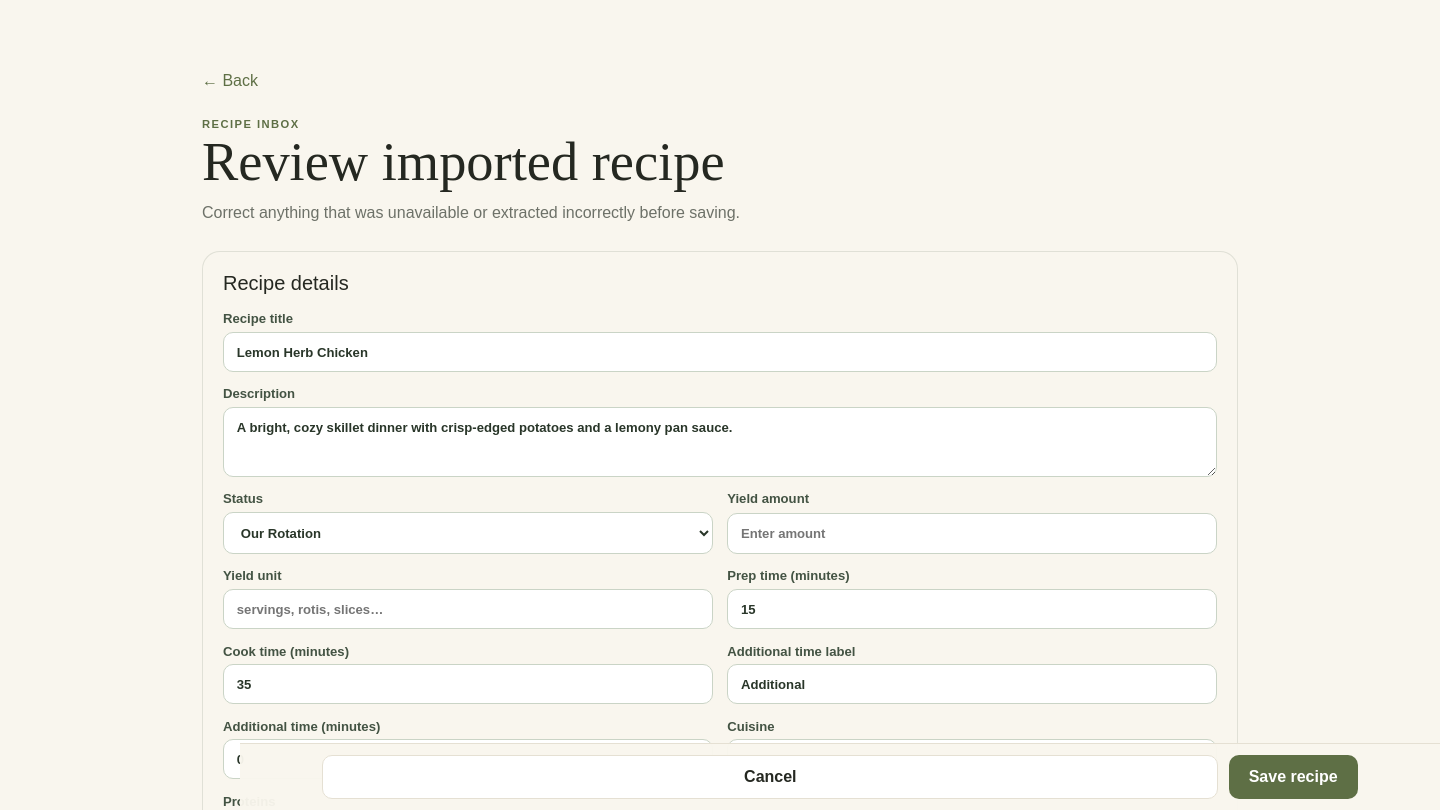
RecipeForm › keeps an unknown imported yield blank and asks for it before saving
The image size is (1440, 810).
Later steps or results of the test are not shown.
Expected: the number field labelled "Yield amount" is not empty, [727,513,1217,554]
Click the button "Save recipe" at [1293, 777], box [1229,755,1358,799]
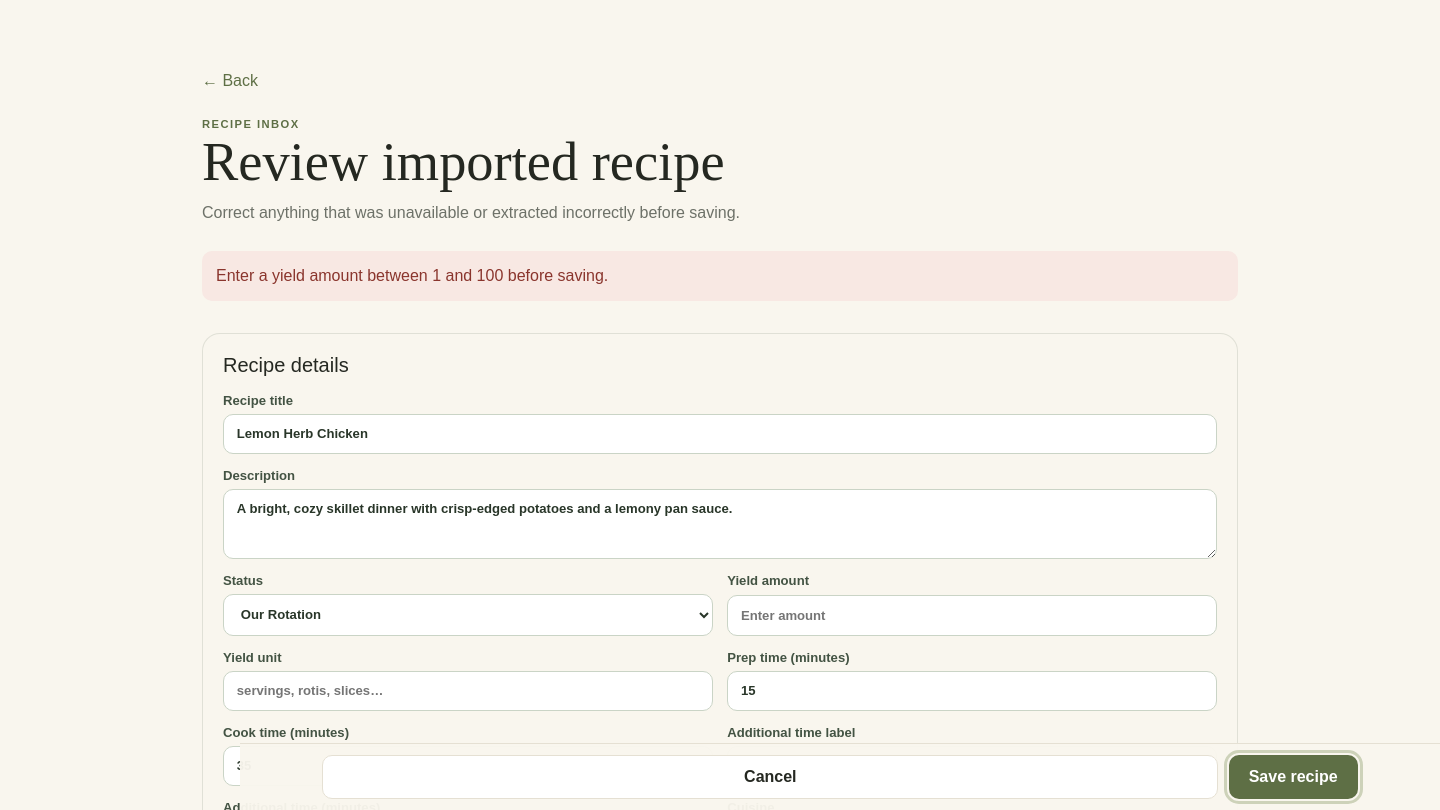
Expected: the message reads "Enter a yield amount between 1 and 100 before saving.", [216,267,608,284]
